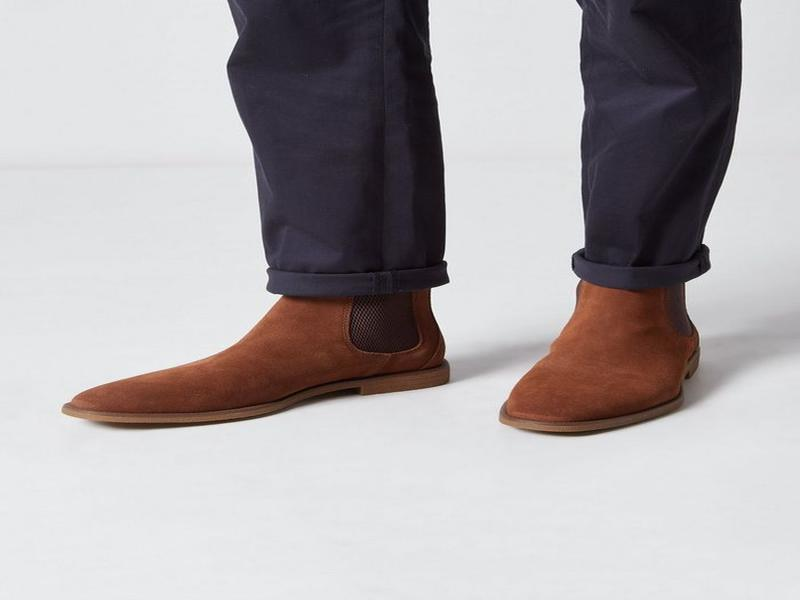shoes_men_chelsea_chelseaboots_suede_none_none_brown_none: (53, 290, 470, 425), (493, 266, 744, 442)
